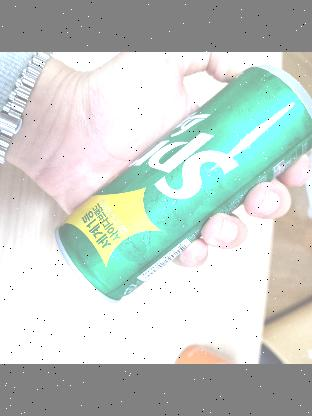Can: (70, 71, 312, 294)
